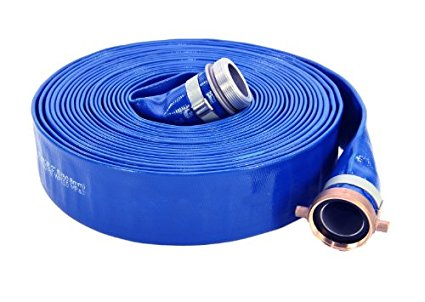Nonrec_Tangler: (23, 30, 396, 261)
